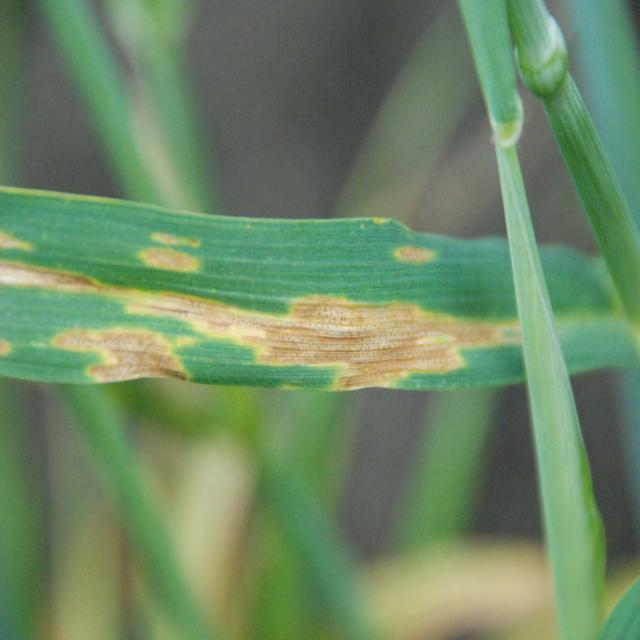wheat-septoria: (0, 261, 522, 393), (48, 329, 190, 389), (140, 231, 200, 274), (394, 248, 434, 269), (1, 230, 29, 250), (0, 339, 14, 358)
